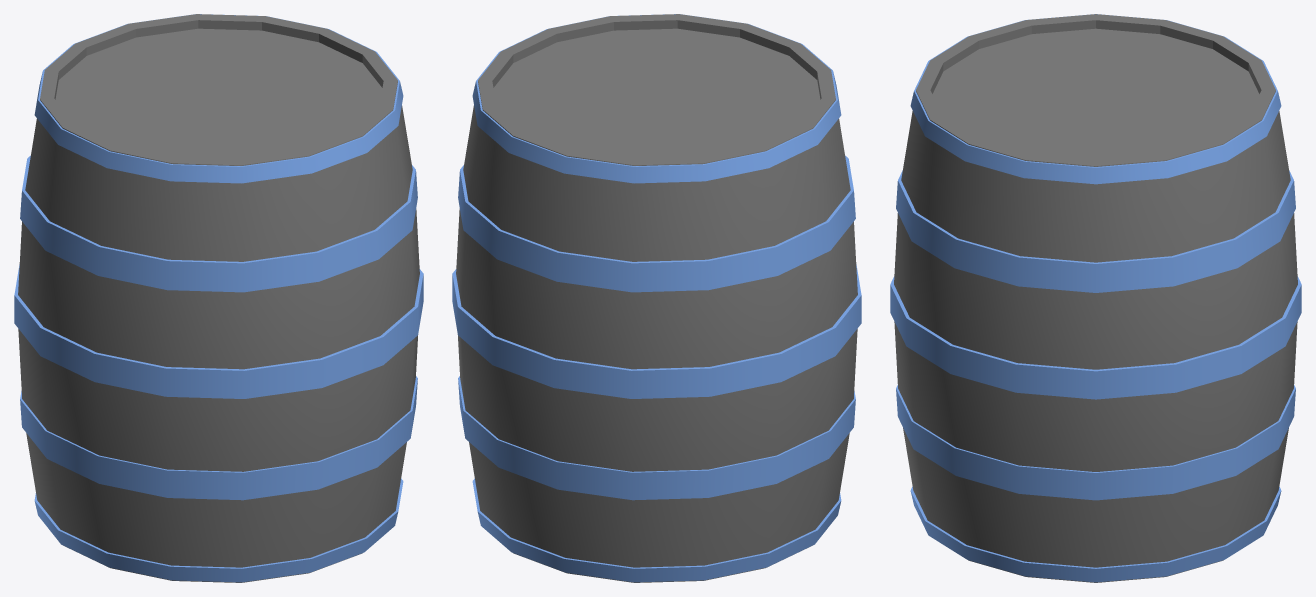
The model's file is barrel.fbx.
The picture shows the model from 3 angles, left to right: view 1: azimuth 30°, elevation 25°; view 2: azimuth 150°, elevation 25°; view 3: azimuth 270°, elevation 25°; orthographic projection.
Parts seen in each view (by area): view 1: Circle002, Object001; view 2: Circle002, Object001; view 3: Circle002, Object001.
Boxes of the visible parts, x1,y1,x2,y2 form: Circle002: (18, 14, 419, 582); Object001: (14, 14, 423, 582); Circle002: (456, 14, 857, 582); Object001: (452, 14, 861, 582); Circle002: (894, 14, 1297, 582); Object001: (890, 14, 1301, 582).
Bounding box in the file's own units: 242 × 242 × 271.
